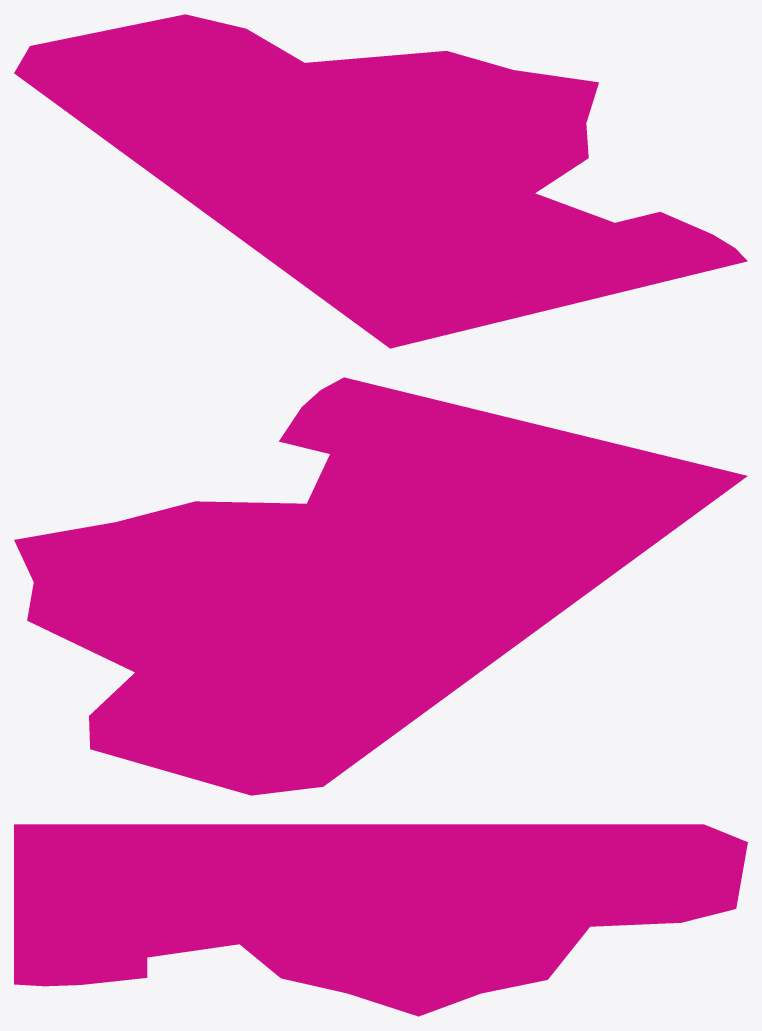
File: Parchment_P_011.fbx
The picture shows the model from 3 angles, top to bottom: view 1: azimuth 30°, elevation 25°; view 2: azimuth 150°, elevation 25°; view 3: azimuth 270°, elevation 25°; orthographic projection. The views are drawn at different scales.
Visible parts, largest first — view 1: Parchment_P_011; view 2: Parchment_P_011; view 3: Parchment_P_011.
Boxes of the visible parts, left/top/right/bottom form: Parchment_P_011: left=14, top=14, right=747, bottom=348; Parchment_P_011: left=14, top=377, right=747, bottom=795; Parchment_P_011: left=14, top=824, right=747, bottom=1016.
Bounding box in the file's own units: 21.07 × 7.55e-15 × 33.99.
